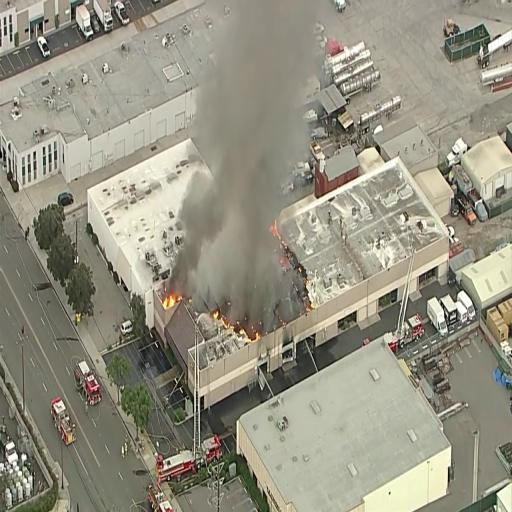smoke: (207, 22, 289, 267)
